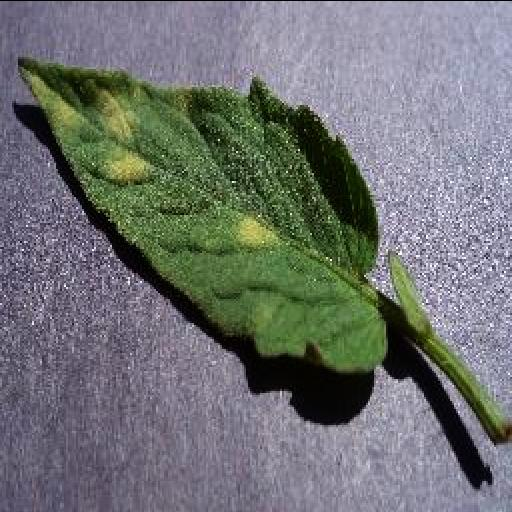disease_tomato: (14, 53, 386, 374)
